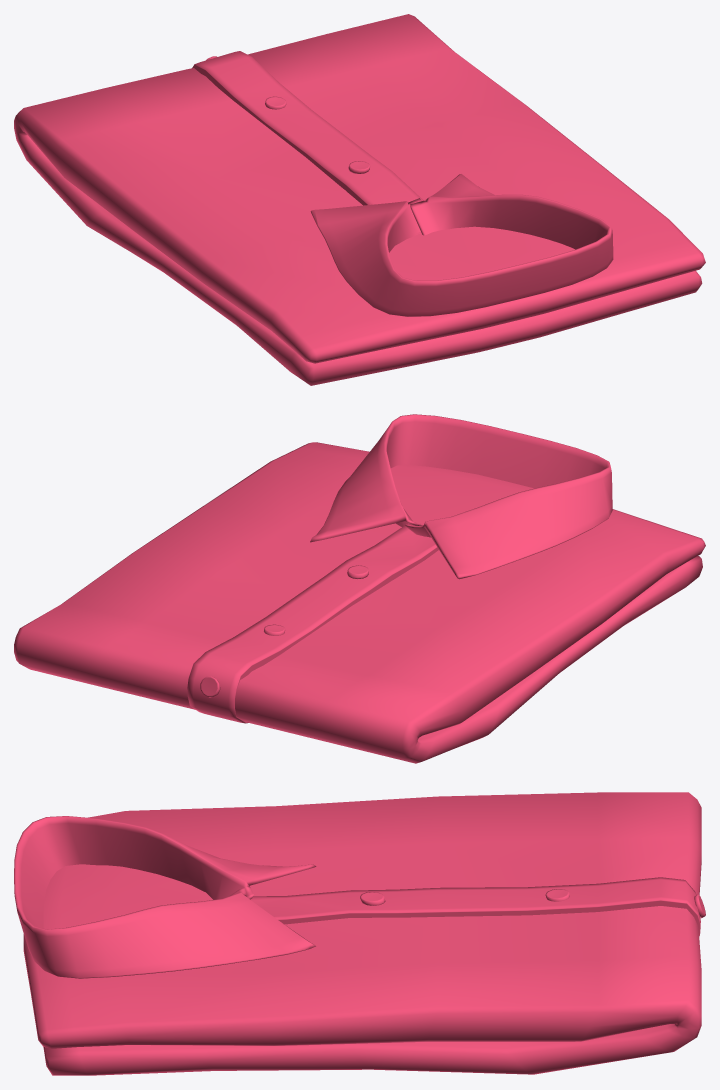
The model's file is Shirt.fbx.
3 views of the same model, one above another, from view 1: azimuth 30°, elevation 25°; view 2: azimuth 150°, elevation 25°; view 3: azimuth 270°, elevation 25° (orthographic). The views are drawn at different scales.
Parts seen in each view (by area): view 1: chenshan16; view 2: chenshan16; view 3: chenshan16.
Boxes of the visible parts, x1,y1,x2,y2 form: chenshan16: (14, 14, 705, 385); chenshan16: (14, 414, 705, 763); chenshan16: (14, 792, 705, 1075).
Bounding box in the file's own units: 2489 × 551 × 3324.
